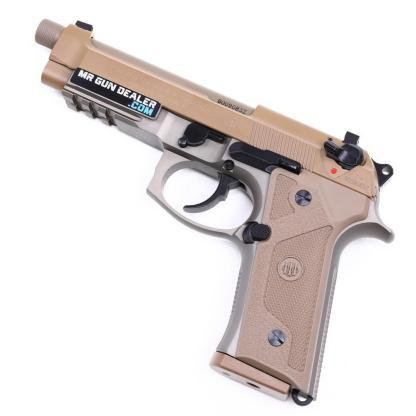Pistol: (31, 17, 394, 405)
